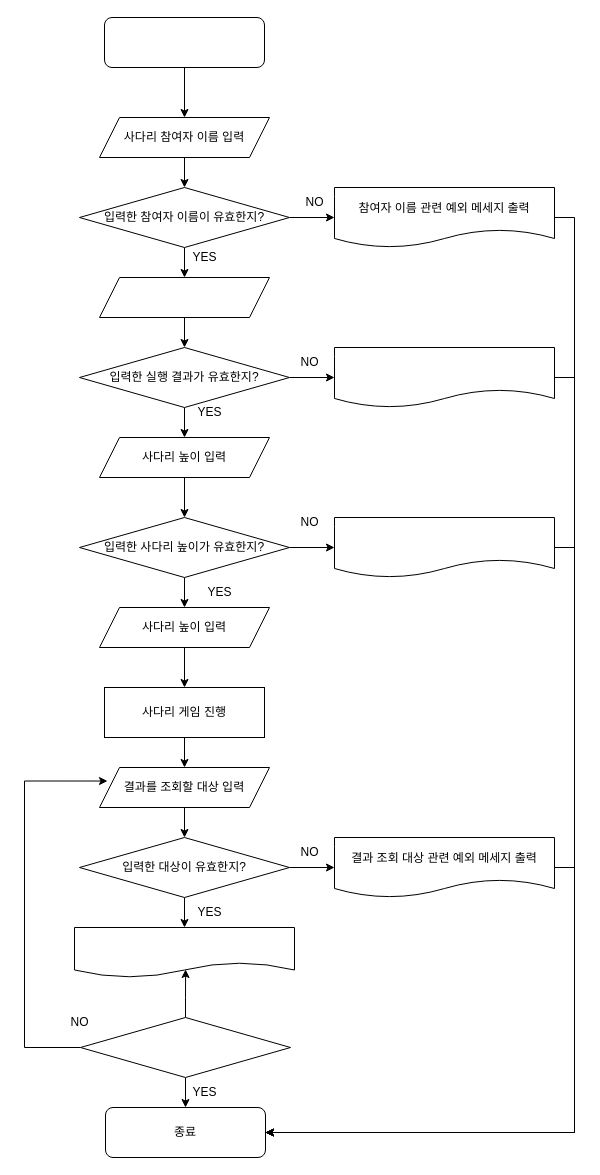
Image size: 600x1175. Some labels were removed from this diagram. Each missing label, with the centre of its shape:
대상의 사다리 게임 결과 출력: [184,952]
사다리 높이 관련 예외 메세지 출력: [444,547]
시작: [184,42]
실행 결과 관련 예외 메세지 출력: [444,377]
실행 결과 입력: [184,297]
입력한 대상이 all인지?: [185,1047]
